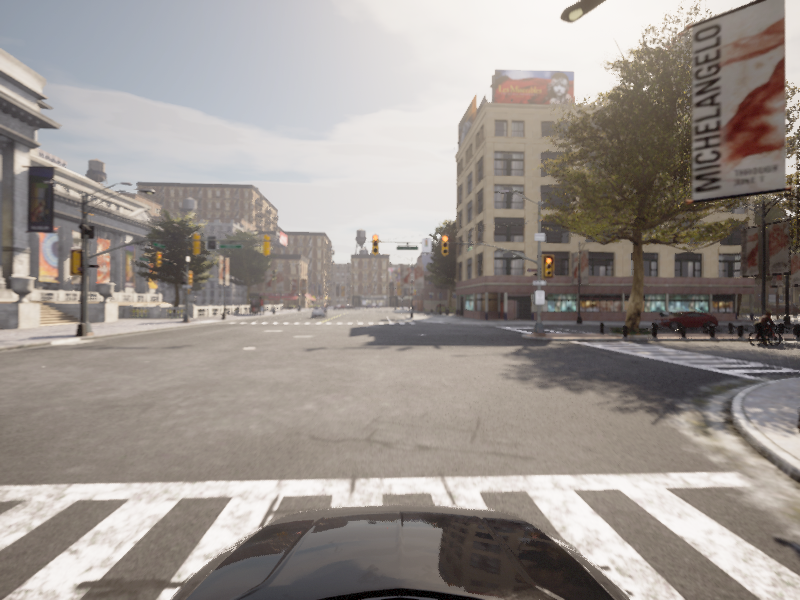vehicle: (647, 310, 723, 330), (743, 312, 787, 346)
